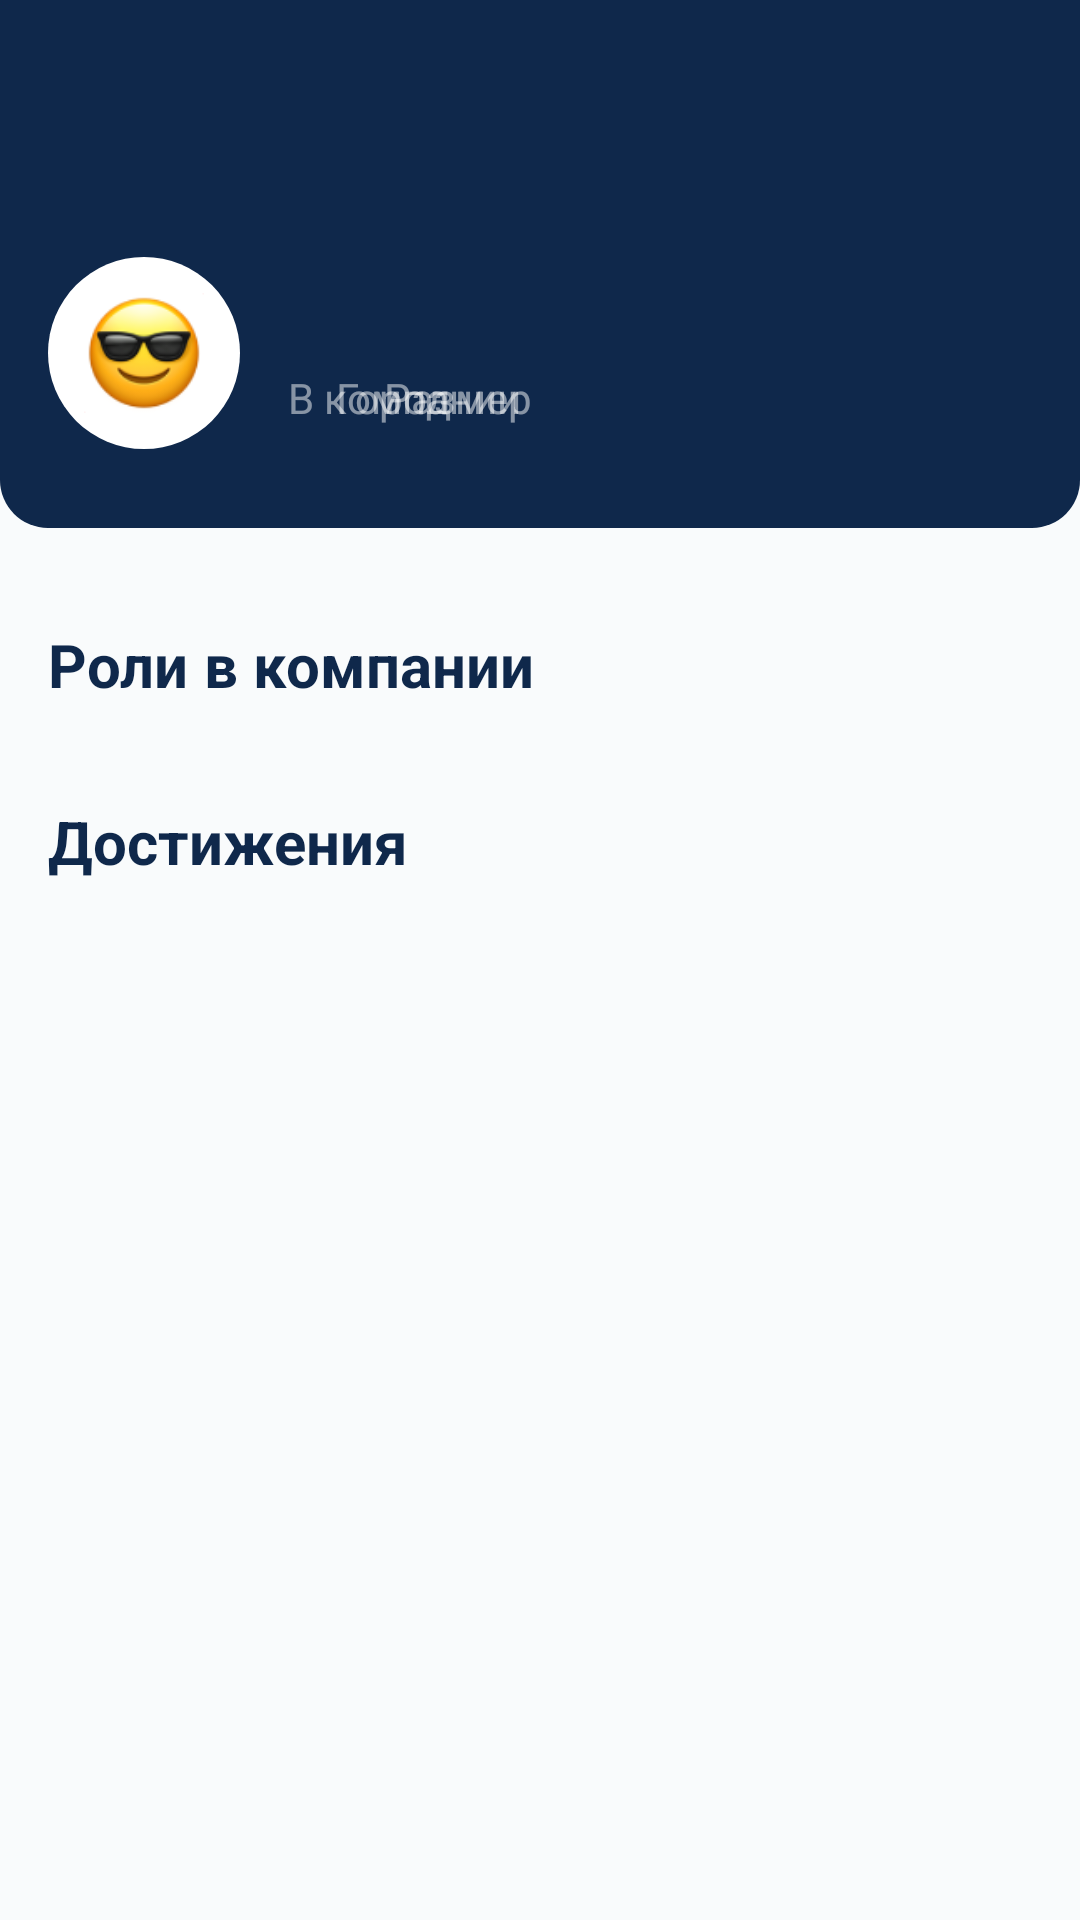

Point at icon controls on the screen. Image size 1080w x 1920h, points as [x,y].
cool: [144,353]
